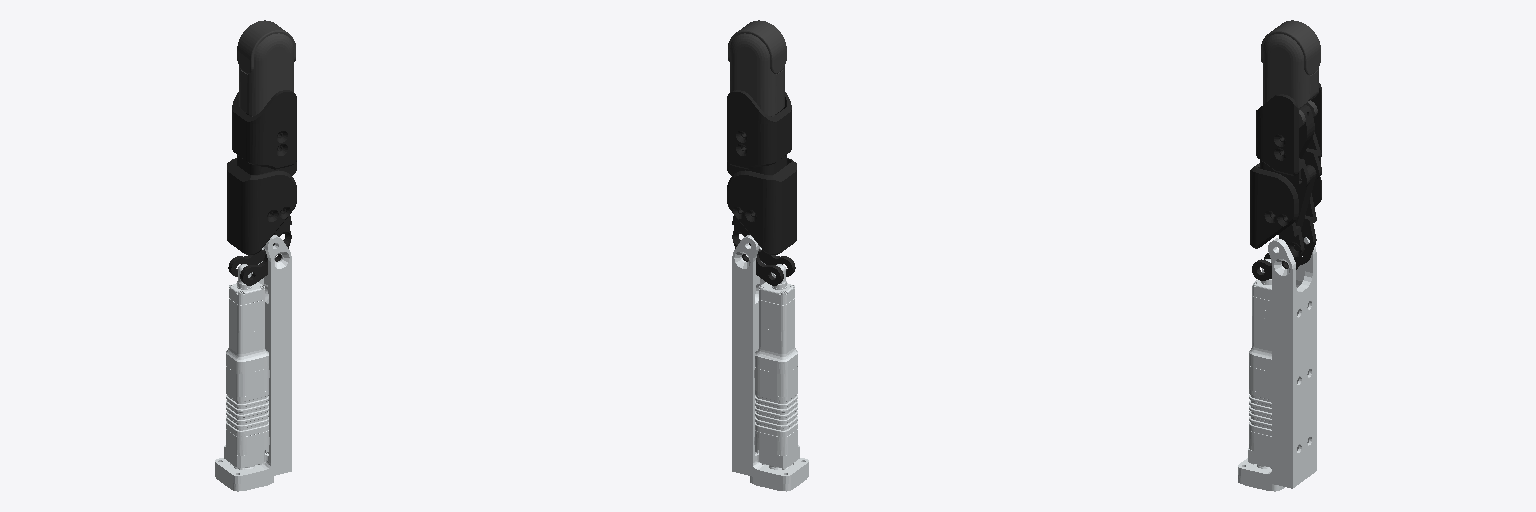
The robot description file, URDF, robot "finger_simple":
<?xml version='1.0' encoding='utf-8'?>
<robot name="finger_simple">
  <link name="Base_Link">
    <inertial>
      <origin xyz="-0.00704727 0.00004379 -0.05727729" rpy="0 0 0" />
      <mass value="0.06525219" />
      <inertia ixx="0.00005262000" ixy="-0.00000003000" ixz="0.00000272000" iyy="0.00005340000" iyz="-0.00000044000" izz="0.00000229000" />
    </inertial>
    <visual>
      <origin xyz="0 0 0" rpy="0 0 0" />
      <geometry>
        <mesh filename="package://finger_simple/meshes/Base_Link.STL" />
      </geometry>
      <material name="">
        <color rgba="0.898039215686275 0.917647058823529 0.929411764705882 1" />
      </material>
    </visual>
    <collision>
      <origin xyz="0 0 0" rpy="0 0 0" />
      <geometry>
        <mesh filename="package://finger_simple/meshes/Base_Link.STL" />
      </geometry>
    </collision>
  </link>
  <link name="Link_1">
    <inertial>
      <origin xyz="-0.00267520 0.00000000 0.01594133" rpy="0 0 0" />
      <mass value="0.00740117" />
      <inertia ixx="0.00000100000" ixy="-0.00000000000" ixz="0.00000005000" iyy="0.00000101000" iyz="-0.00000000000" izz="0.00000040000" />
    </inertial>
    <visual>
      <origin xyz="0 0 0" rpy="0 0 0" />
      <geometry>
        <mesh filename="package://finger_simple/meshes/Link_1.STL" />
      </geometry>
      <material name="">
        <color rgba="0.196078431372549 0.196078431372549 0.196078431372549 1" />
      </material>
    </visual>
    <collision>
      <origin xyz="0 0 0" rpy="0 0 0" />
      <geometry>
        <mesh filename="package://finger_simple/meshes/Link_1.STL" />
      </geometry>
    </collision>
  </link>
  <joint name="Joint_1" type="continuous">
    <origin xyz="0 0 0" rpy="0 0 0" />
    <parent link="Base_Link" />
    <child link="Link_1" />
    <axis xyz="0 1 0" />
    <mimic joint="Motor_Linear_Joint" multiplier="1.5" offset="0" />
  </joint>
  <link name="Link_2">
    <inertial>
      <origin xyz="0.00120264 0.00000000 0.01454858" rpy="0 0 0" />
      <mass value="0.00637810" />
      <inertia ixx="0.00000060000" ixy="-0.00000000000" ixz="-0.00000000000" iyy="0.00000055000" iyz="-0.00000000000" izz="0.00000031000" />
    </inertial>
    <visual>
      <origin xyz="0 0 0" rpy="0 0 0" />
      <geometry>
        <mesh filename="package://finger_simple/meshes/Link_2.STL" />
      </geometry>
      <material name="">
        <color rgba="0.196078431372549 0.196078431372549 0.196078431372549 1" />
      </material>
    </visual>
    <collision>
      <origin xyz="0 0 0" rpy="0 0 0" />
      <geometry>
        <mesh filename="package://finger_simple/meshes/Link_2.STL" />
      </geometry>
    </collision>
  </link>
  <joint name="Joint_2" type="continuous">
    <origin xyz="-0.00199999999993171 0 0.0270208058899968" rpy="0 0 0" />
    <parent link="Link_1" />
    <child link="Link_2" />
    <axis xyz="0 1 0" />
    <mimic joint="Motor_Linear_Joint" multiplier="2" offset="0" />
  </joint>
  <link name="Link_3">
    <inertial>
      <origin xyz="0.00074576 0.00000000 0.01719204" rpy="0 0 0" />
      <mass value="0.00721927" />
      <inertia ixx="0.00000069000" ixy="-0.00000000000" ixz="-0.00000000000" iyy="0.00000073000" iyz="-0.00000000000" izz="0.00000026000" />
    </inertial>
    <visual>
      <origin xyz="0 0 0" rpy="0 0 0" />
      <geometry>
        <mesh filename="package://finger_simple/meshes/Link_3.STL" />
      </geometry>
      <material name="">
        <color rgba="0.298039215686275 0.298039215686275 0.298039215686275 1" />
      </material>
    </visual>
    <collision>
      <origin xyz="0 0 0" rpy="0 0 0" />
      <geometry>
        <mesh filename="package://finger_simple/meshes/Link_3.STL" />
      </geometry>
    </collision>
  </link>
  <joint name="Joint_3" type="continuous">
    <origin xyz="0 0 0.02332813779" rpy="0 0 0" />
    <parent link="Link_2" />
    <child link="Link_3" />
    <axis xyz="0 1 0" />
    <mimic joint="Motor_Linear_Joint" multiplier="2.5" offset="0" />
  </joint>
</robot>

--- What the picture shows (computed from the rendered views, not written in the file) ---
3 views of the same robot in one strip: view 1: azimuth 30°, elevation 25°; view 2: azimuth 150°, elevation 25°; view 3: azimuth 330°, elevation 25° (orthographic).
Model finger_simple with 4 links and 3 joints (3 continuous), rooted at Base_Link, posed all joints at 0.
Links seen in each view (by area): view 1: Base_Link, Link_1, Link_2, Link_3; view 2: Base_Link, Link_1, Link_2, Link_3; view 3: Base_Link, Link_1, Link_2, Link_3.
Boxes of the visible links, x1=… form: Base_Link: x1=215, y1=235, x2=291, y2=491; Link_1: x1=227, y1=158, x2=296, y2=285; Link_2: x1=232, y1=90, x2=296, y2=175; Link_3: x1=237, y1=20, x2=295, y2=116; Base_Link: x1=732, y1=235, x2=808, y2=491; Link_1: x1=727, y1=158, x2=796, y2=285; Link_2: x1=727, y1=90, x2=791, y2=175; Link_3: x1=728, y1=20, x2=786, y2=116; Base_Link: x1=1238, y1=237, x2=1316, y2=491; Link_1: x1=1250, y1=163, x2=1321, y2=280; Link_2: x1=1256, y1=83, x2=1321, y2=190; Link_3: x1=1261, y1=20, x2=1320, y2=127.
Size in the robot's own frame: 0.0259 by 0.018 by 0.169 metres.
Meshes: 4 distinct files referenced, 4 mesh visuals loaded (4 binary STL).